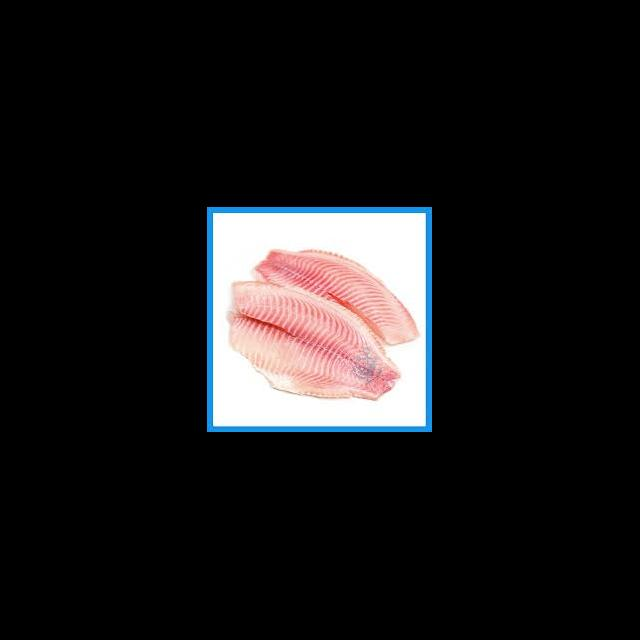fish: (225, 277, 406, 412)
